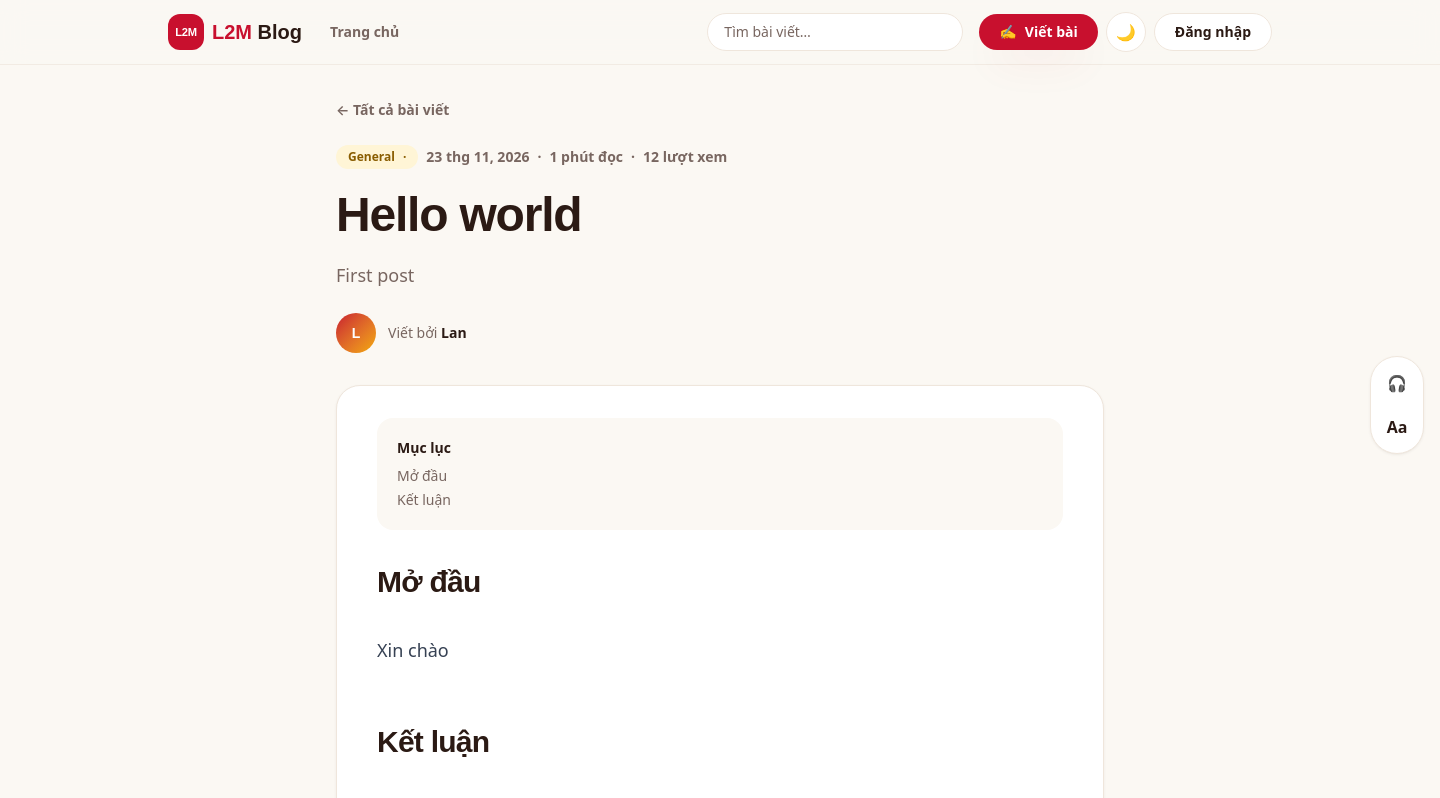
App › reads the post aloud with the device voice when the browser supports it
The width and height of the screenshot is (1440, 798).
Step 1. Click the button named "Nghe bài viết" → (1397,383), box [1377,363,1417,403]
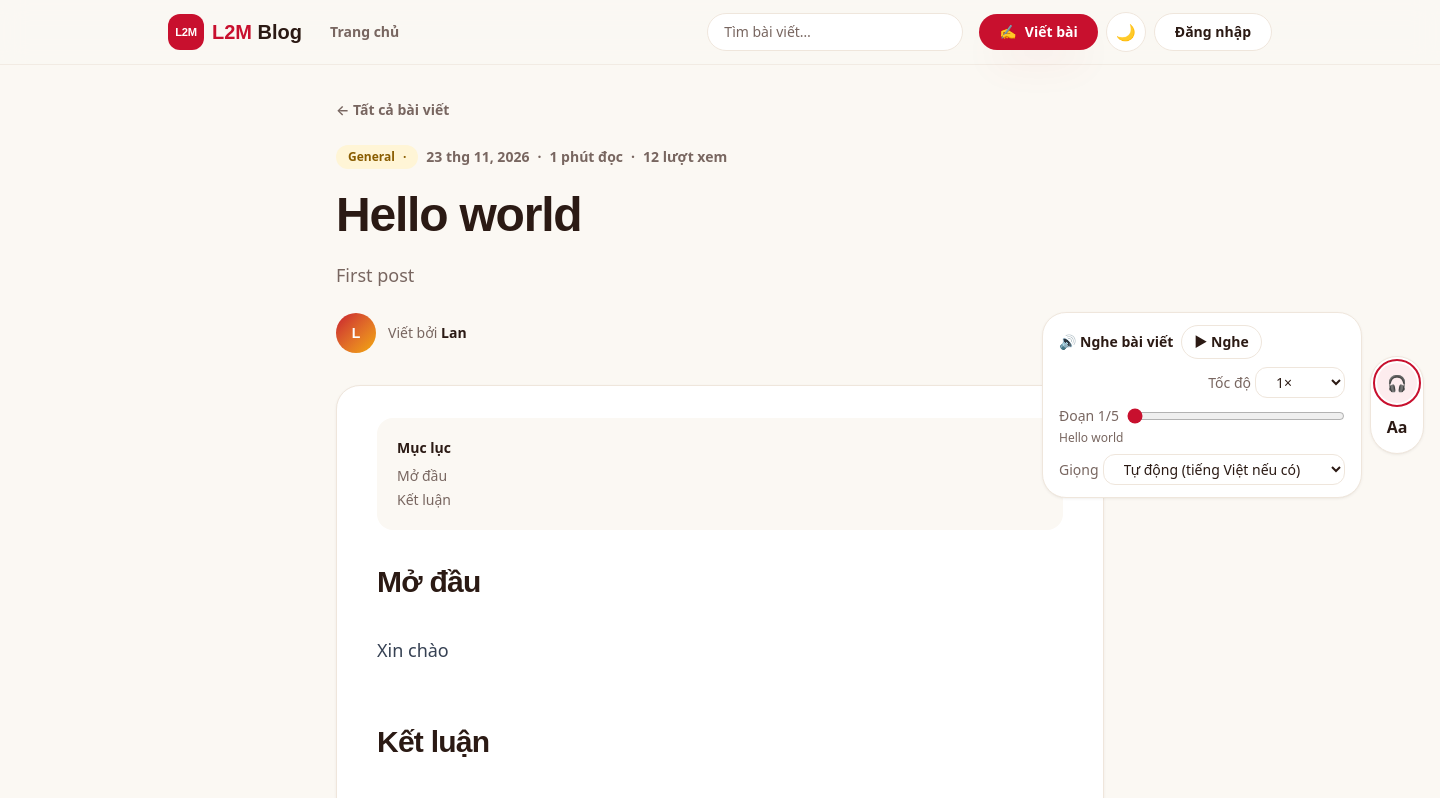
Step 2. Click the button "▶ Nghe" → (1222,342), box [1181,325,1262,359]
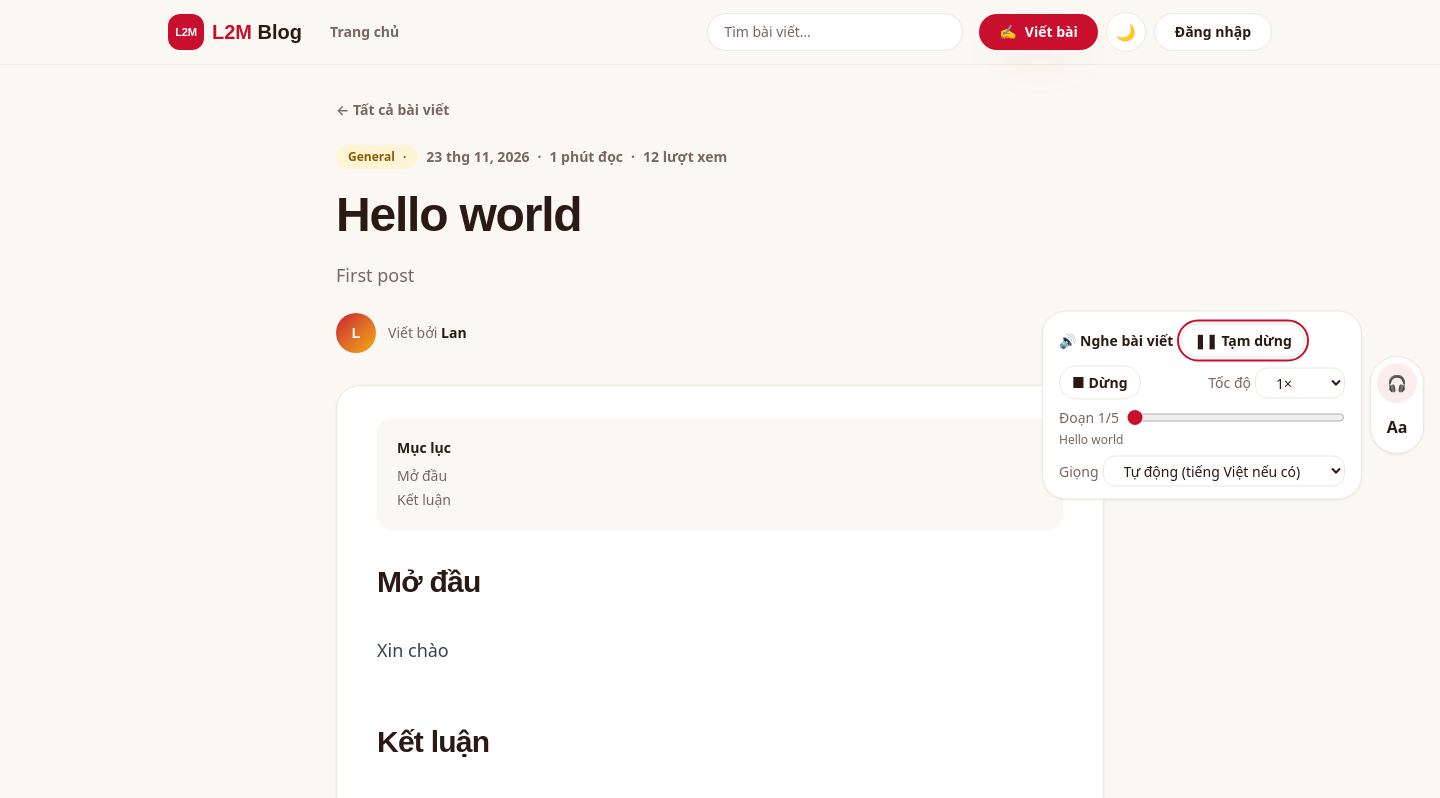
expect the button "❚❚ Tạm dừng" is shown: met, box [1181,324,1305,358]
Closing the panel hides it but keeps the reader playing.
Step 3. Click the button named "Nghe bài viết" → (1397,383), box [1377,363,1417,403]
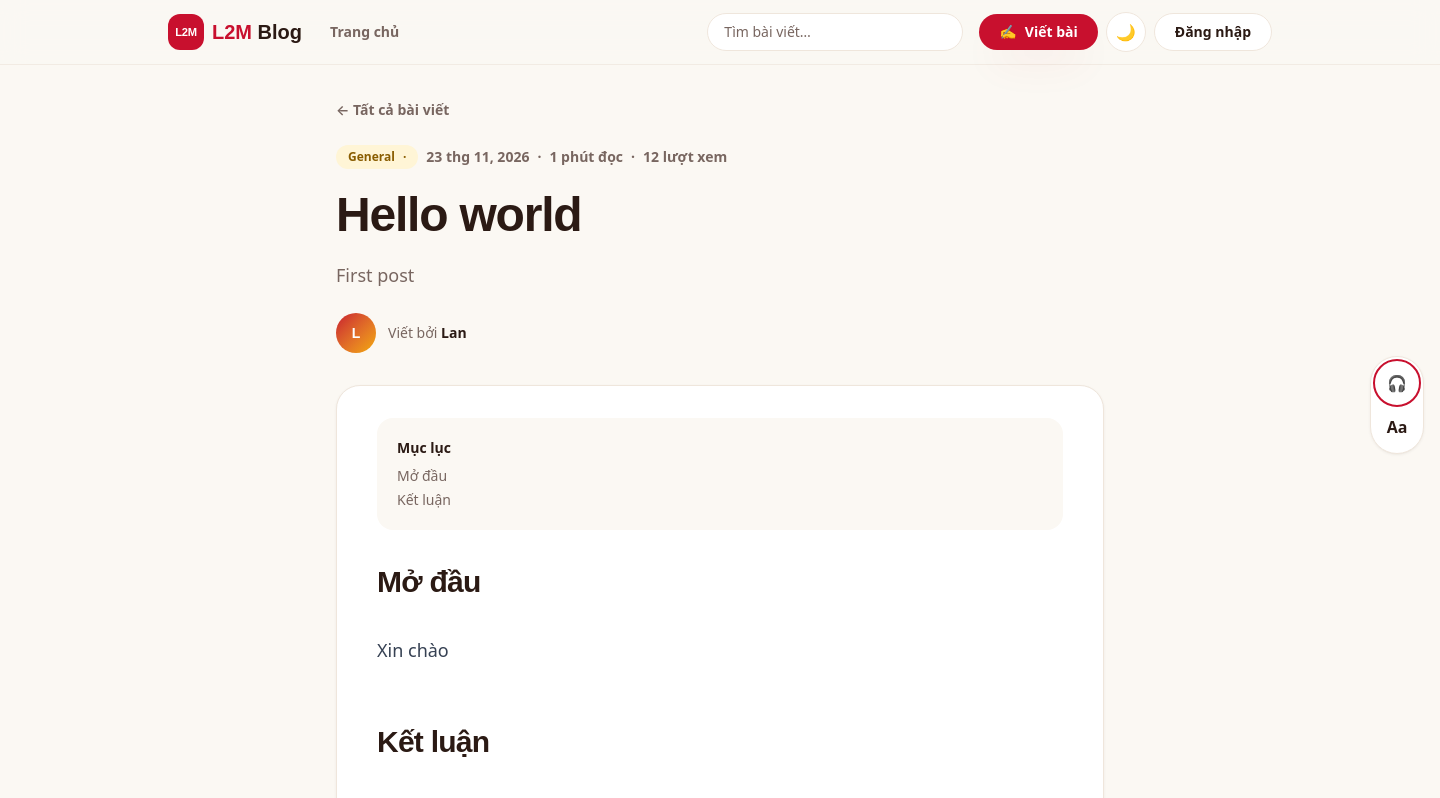
expect the text "Nghe bài viết" is gone: met
Step 4. Click the button named "Nghe bài viết" → (1397,383), box [1377,363,1417,403]
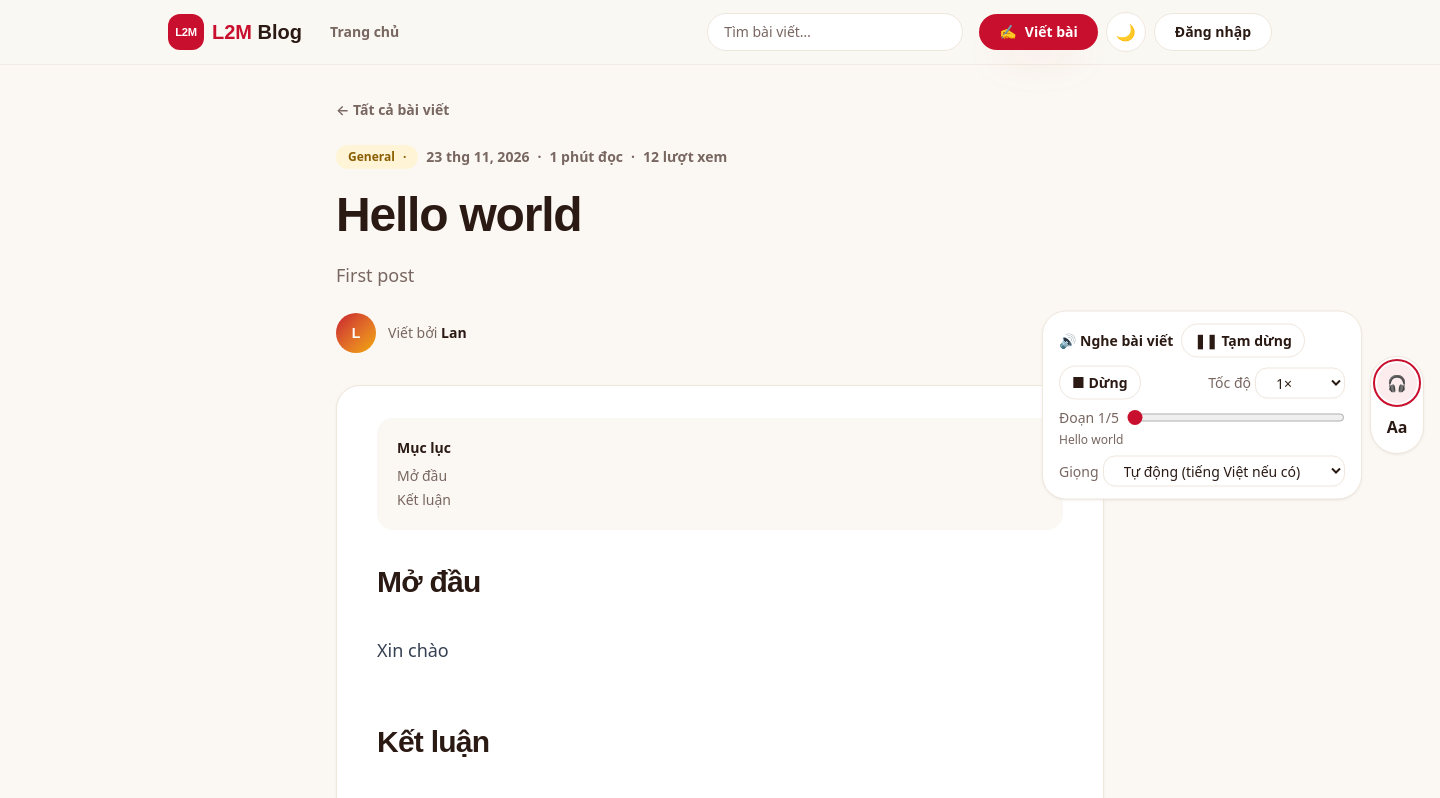
expect the button "❚❚ Tạm dừng" is shown: met, box [1181,324,1305,358]
